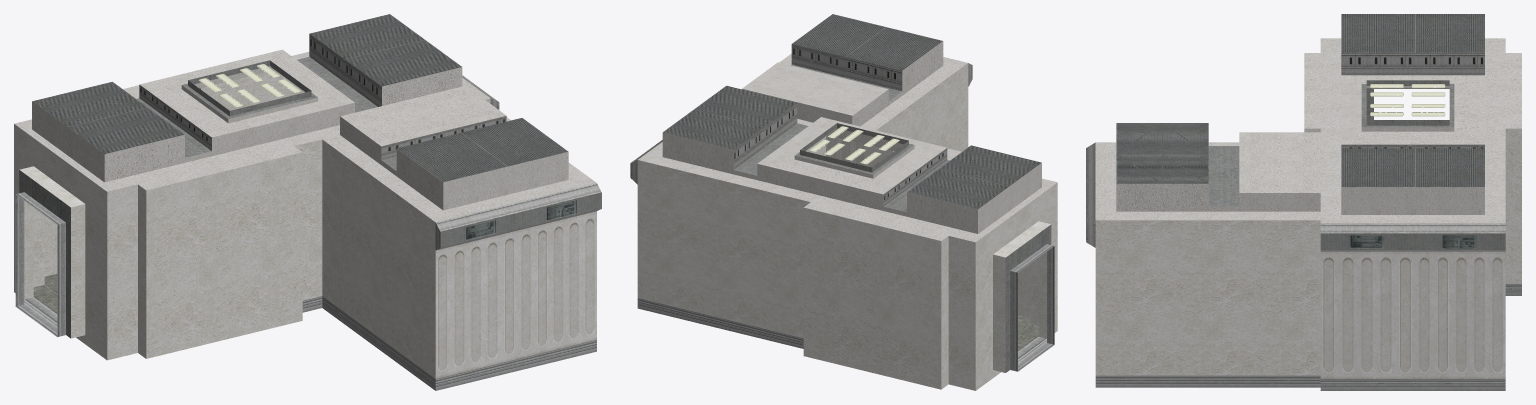
The model's file is ply_all_house_lg_s02_fp1_r9_room3_mesh_r9.fbx.
3 views of the same model, side by side, from view 1: azimuth 30°, elevation 25°; view 2: azimuth 150°, elevation 25°; view 3: azimuth 270°, elevation 25° (orthographic). The views are drawn at different scales.
Parts seen in each view (by area): view 1: mesh_node; view 2: mesh_node; view 3: mesh_node.
Boxes of the visible parts, x1,y1,x2,y2 form: mesh_node: (14, 14, 601, 390); mesh_node: (630, 14, 1057, 390); mesh_node: (1086, 14, 1521, 390).
Bounding box in the file's own units: 11.6 × 5.26 × 10.63.
